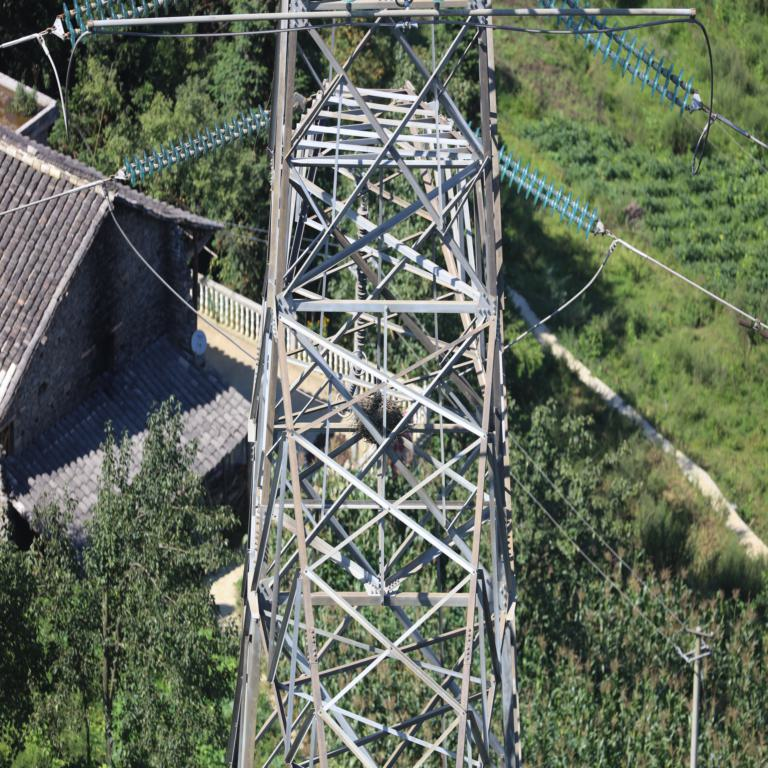nest: (352, 397, 403, 440)
